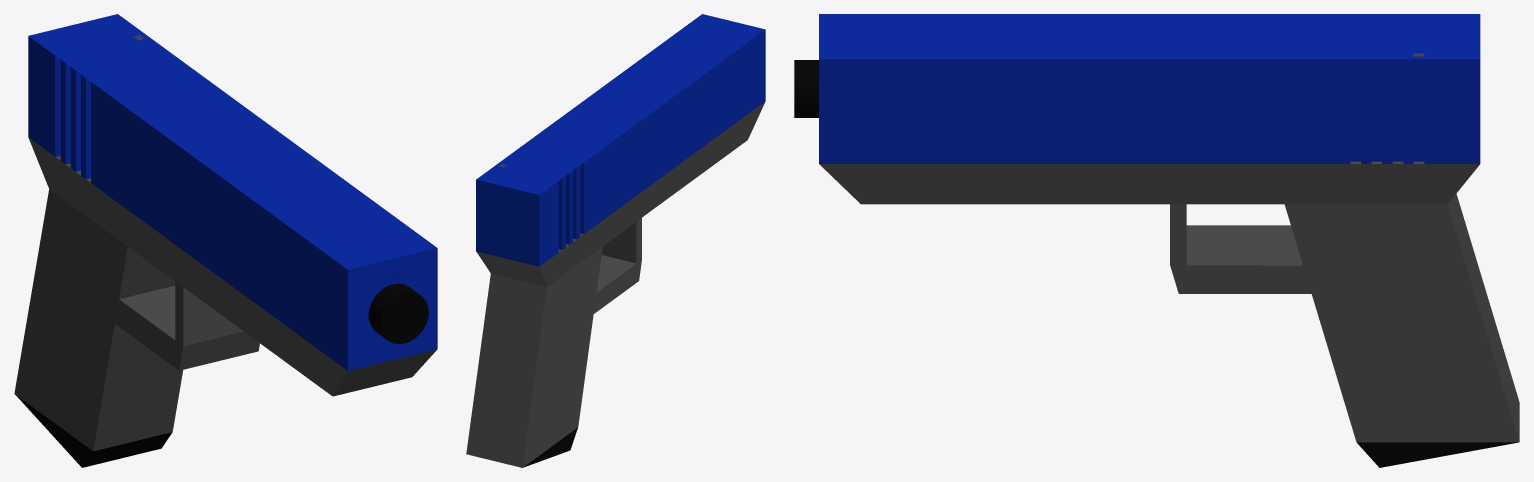
File: pistol 1.fbx
3 renders of one model, left to right at view 1: azimuth 30°, elevation 25°; view 2: azimuth 150°, elevation 25°; view 3: azimuth 270°, elevation 25°, orthographic. The views are drawn at different scales.
Parts seen in each view (by area): view 1: Cube; view 2: Cube; view 3: Cube.
Part boxes in pixels (<box>): Cube: <box>14,14,437,467</box>; Cube: <box>466,14,765,467</box>; Cube: <box>794,14,1519,467</box>.
Size of the model in its own units: 225 by 956 by 1528.
